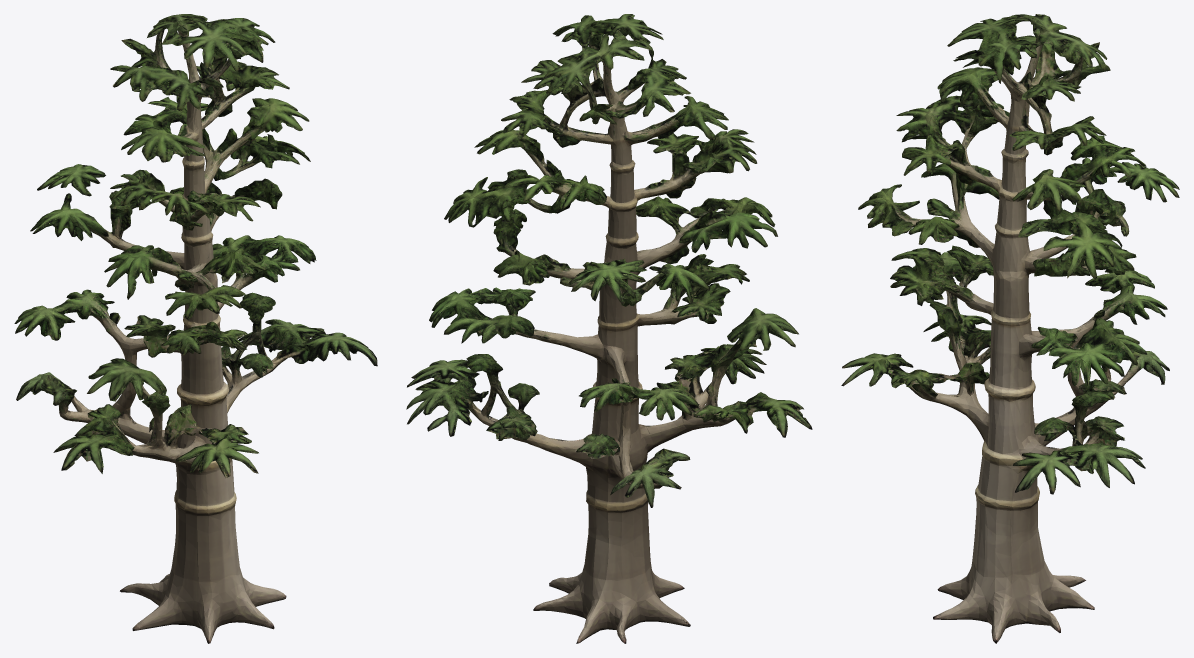
The picture shows the model from 3 angles, left to right: view 1: azimuth 30°, elevation 25°; view 2: azimuth 150°, elevation 25°; view 3: azimuth 270°, elevation 25°; orthographic projection.
Visible parts, largest first — view 1: world; view 2: world; view 3: world.
Part boxes in pixels (x1,y1,x2,y2): world: [14, 14, 377, 643]; world: [406, 14, 812, 643]; world: [841, 14, 1179, 643].
Bounding box in the file's own units: 0.6246 × 0.9934 × 0.5162.
Materials: 1 (1 with a texture image).
